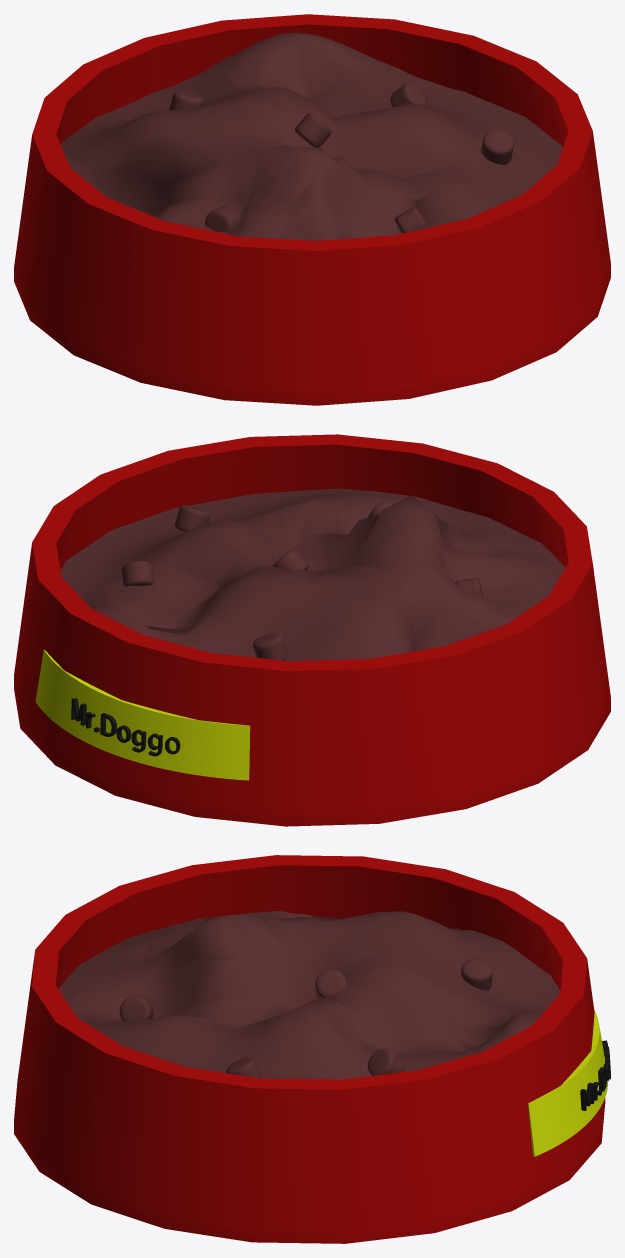
Rendered from dogbowlfull.fbx.
The picture shows the model from 3 angles, top to bottom: view 1: azimuth 30°, elevation 25°; view 2: azimuth 150°, elevation 25°; view 3: azimuth 270°, elevation 25°; orthographic projection.
Visible parts, largest first — view 1: polySurface17, polySurface16, polySurface5, polySurface2, polySurface4, polySurface7, polySurface6, polySurface3; view 2: polySurface17, polySurface16, polySurface18, polySurface3, polySurface7, polySurface5; view 3: polySurface17, polySurface16, polySurface18, polySurface3, polySurface6, polySurface7, polySurface2.
Boxes of the visible parts, bbox=[...] form: polySurface17: bbox=[14, 14, 610, 405]; polySurface16: bbox=[60, 32, 563, 240]; polySurface5: bbox=[481, 129, 514, 164]; polySurface2: bbox=[295, 113, 331, 147]; polySurface4: bbox=[205, 206, 241, 232]; polySurface7: bbox=[390, 82, 427, 107]; polySurface6: bbox=[394, 207, 427, 233]; polySurface3: bbox=[169, 90, 203, 110]; polySurface17: bbox=[14, 434, 610, 826]; polySurface16: bbox=[60, 488, 565, 661]; polySurface18: bbox=[35, 649, 250, 780]; polySurface3: bbox=[253, 633, 287, 660]; polySurface7: bbox=[121, 560, 154, 586]; polySurface5: bbox=[174, 504, 210, 532]; polySurface17: bbox=[14, 855, 605, 1243]; polySurface16: bbox=[58, 911, 560, 1079]; polySurface18: bbox=[528, 1009, 608, 1156]; polySurface3: bbox=[461, 958, 492, 990]; polySurface6: bbox=[119, 996, 153, 1021]; polySurface7: bbox=[367, 1049, 404, 1075]; polySurface2: bbox=[315, 969, 346, 998].
Bounding box in the file's own units: 117 × 38.22 × 118.
